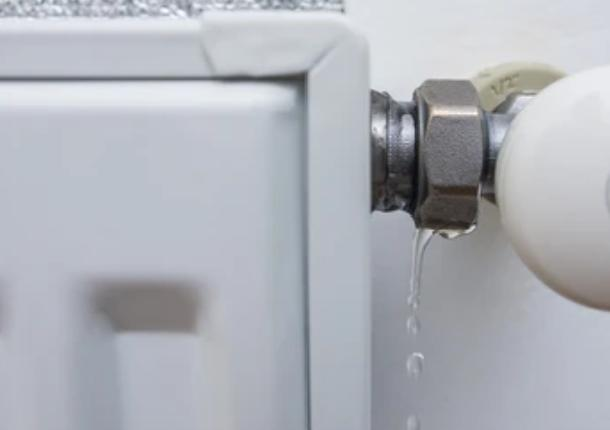water drop: (407, 231, 430, 306), (408, 354, 423, 375), (408, 313, 421, 337), (406, 412, 419, 430)
